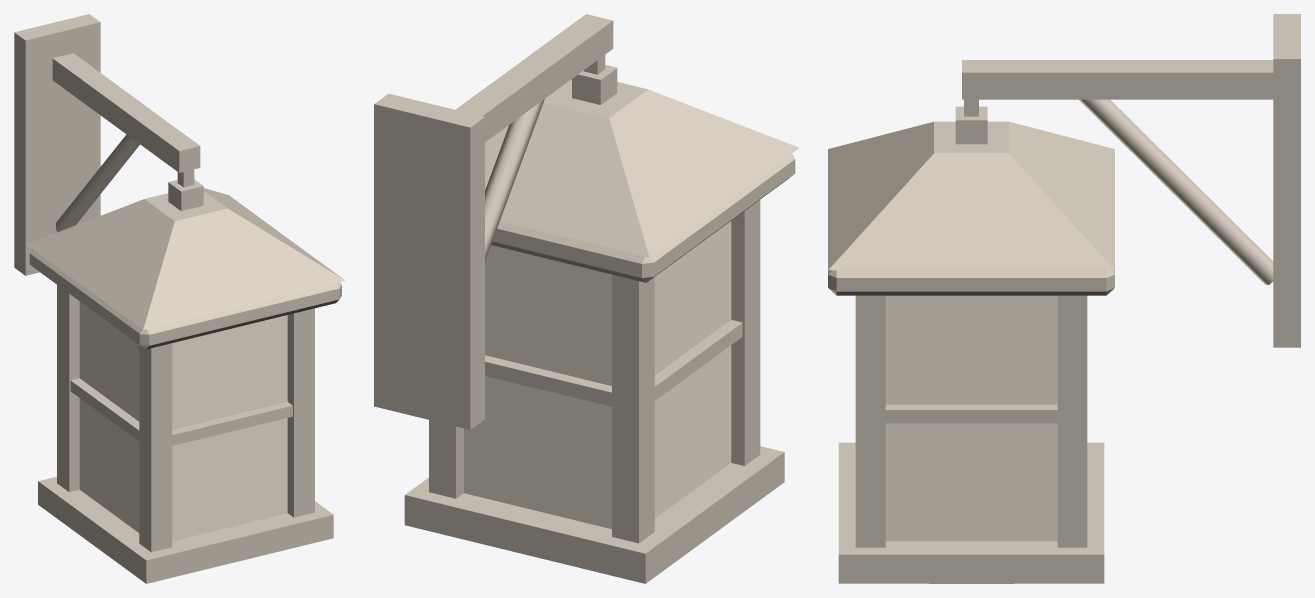
Rendered from SM_VKI_Prop_Lantern_Wall.fbx.
The picture shows the model from 3 angles, left to right: view 1: azimuth 30°, elevation 25°; view 2: azimuth 150°, elevation 25°; view 3: azimuth 270°, elevation 25°; orthographic projection. The views are drawn at different scales.
Visible parts, largest first — view 1: SM_VKI_Prop_Lantern_Wall.001; view 2: SM_VKI_Prop_Lantern_Wall.001; view 3: SM_VKI_Prop_Lantern_Wall.001.
Part boxes in pixels (left/top/right/bottom): SM_VKI_Prop_Lantern_Wall.001: left=14, top=14, right=344, bottom=583; SM_VKI_Prop_Lantern_Wall.001: left=374, top=14, right=799, bottom=583; SM_VKI_Prop_Lantern_Wall.001: left=828, top=14, right=1300, bottom=583.
Bounding box in the file's own units: 0.2701 × 0.55 × 0.4451.
